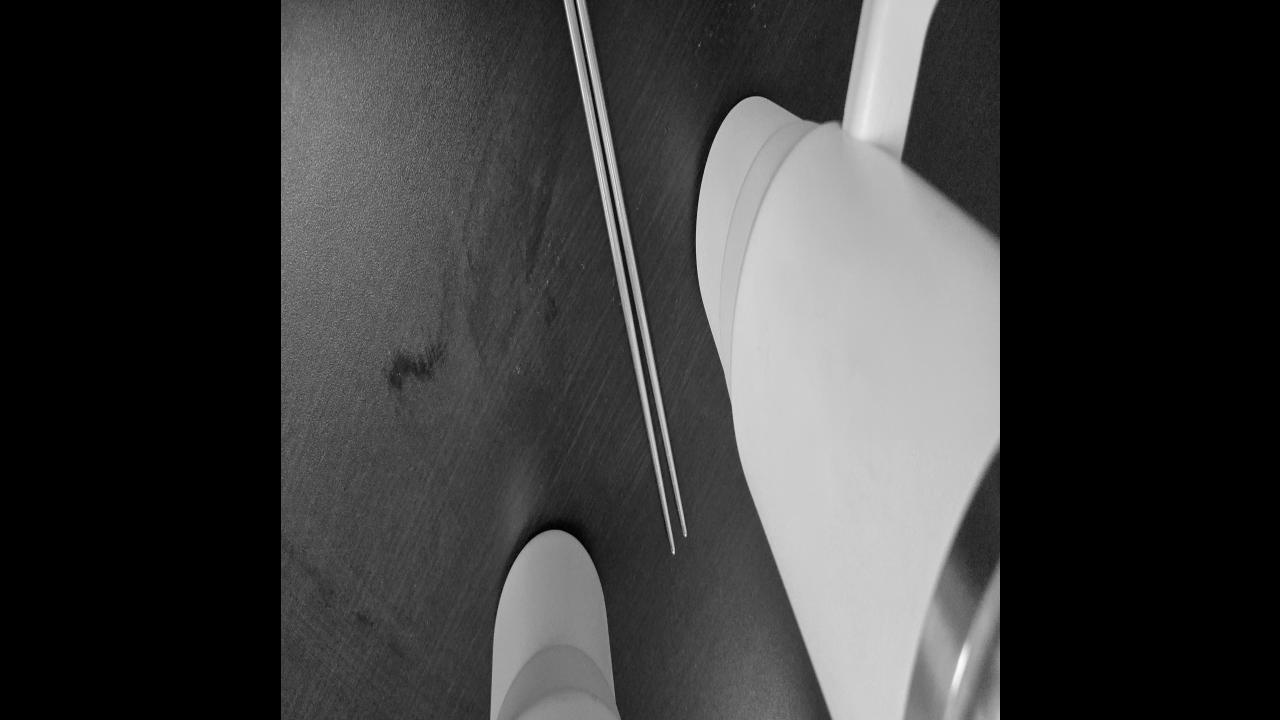chopstick: (521, 0, 687, 554)
